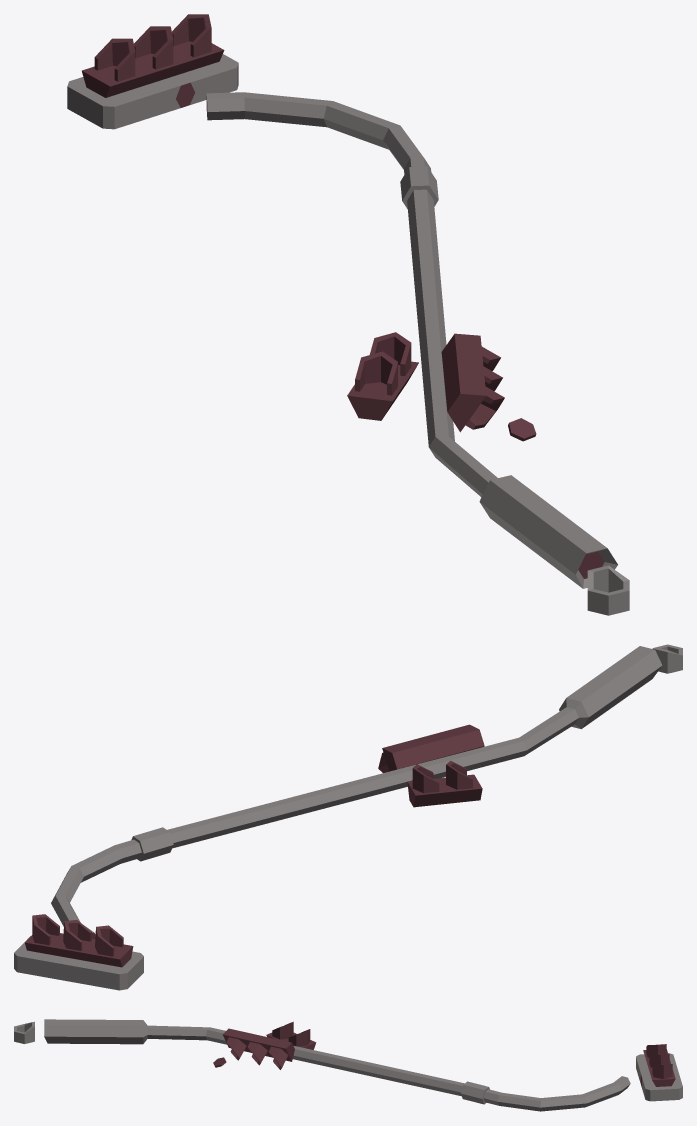
The model's file is traffic-lights-props-apocalypse-b.fbx.
The picture shows the model from 3 angles, top to bottom: view 1: azimuth 30°, elevation 25°; view 2: azimuth 150°, elevation 25°; view 3: azimuth 270°, elevation 25°; orthographic projection. The views are drawn at different scales.
Visible parts, largest first — view 1: traffic-lights-props-apocalypse-b; view 2: traffic-lights-props-apocalypse-b; view 3: traffic-lights-props-apocalypse-b.
Boxes of the visible parts, box(x1,y1,x2,y2) form: traffic-lights-props-apocalypse-b: box(67, 14, 629, 615); traffic-lights-props-apocalypse-b: box(14, 644, 682, 990); traffic-lights-props-apocalypse-b: box(14, 1019, 682, 1111).
Bounding box in the file's own units: 2.79 × 0.5184 × 9.64.
